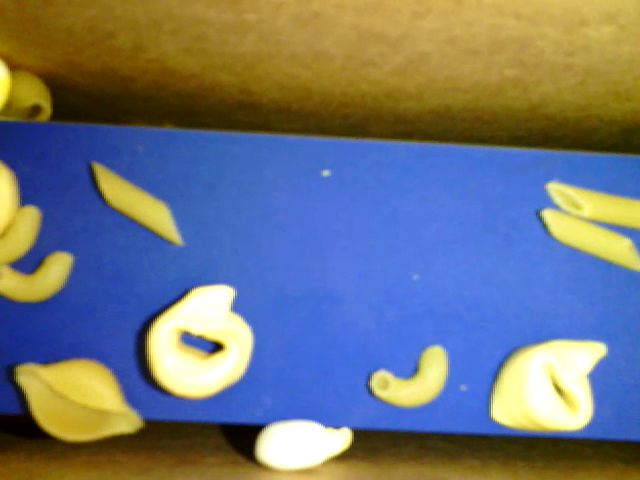elbow: (369, 344, 446, 410), (1, 250, 78, 304), (1, 208, 43, 267)
penne: (89, 162, 180, 249), (538, 207, 637, 270), (543, 180, 639, 231)
shell: (11, 353, 143, 444), (6, 71, 57, 123)
tortellini: (142, 286, 254, 400), (490, 337, 609, 431)
